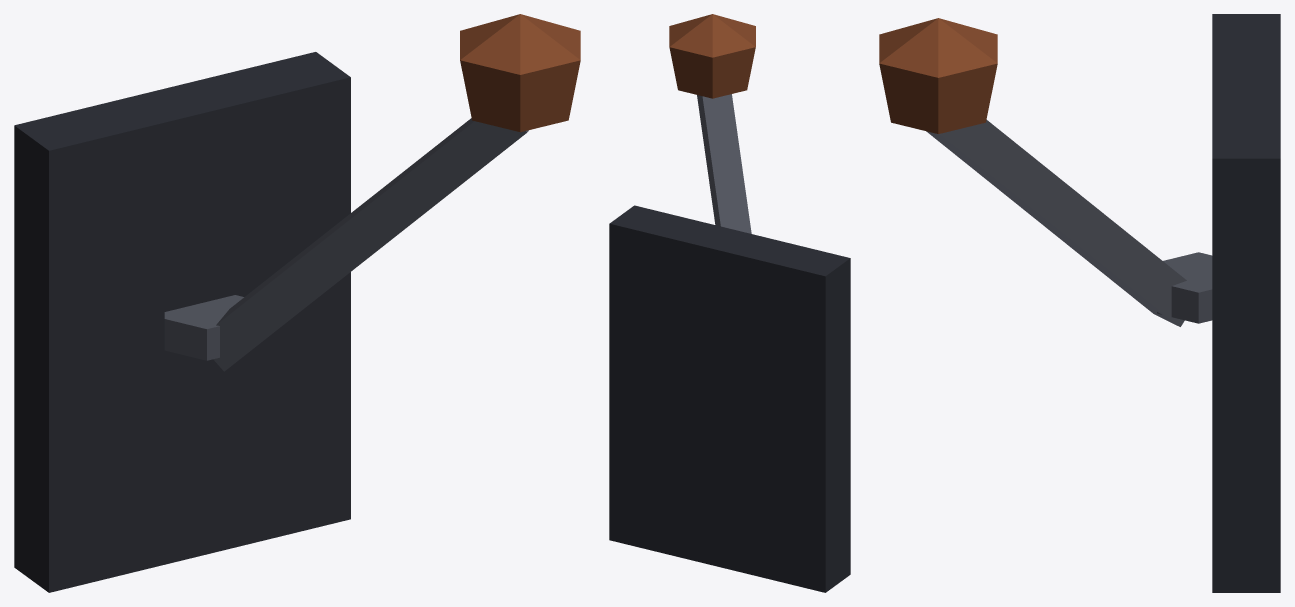
File: lever_wall.fbx
3 views of the same model, side by side, from view 1: azimuth 30°, elevation 25°; view 2: azimuth 150°, elevation 25°; view 3: azimuth 270°, elevation 25° (orthographic). The views are drawn at different scales.
Parts seen in each view (by area): view 1: lever_wall; view 2: lever_wall; view 3: lever_wall.
Boxes of the visible parts, x1,y1,x2,y2 form: lever_wall: (14,14,580,592); lever_wall: (609,14,850,592); lever_wall: (879,14,1280,592).
Size of the model in its own units: 0.65 by 0.95 by 0.5866.
